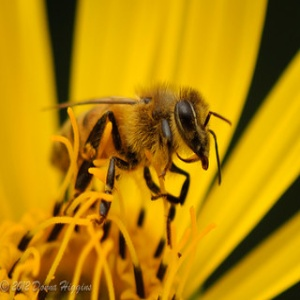bee: (51, 86, 233, 249)
